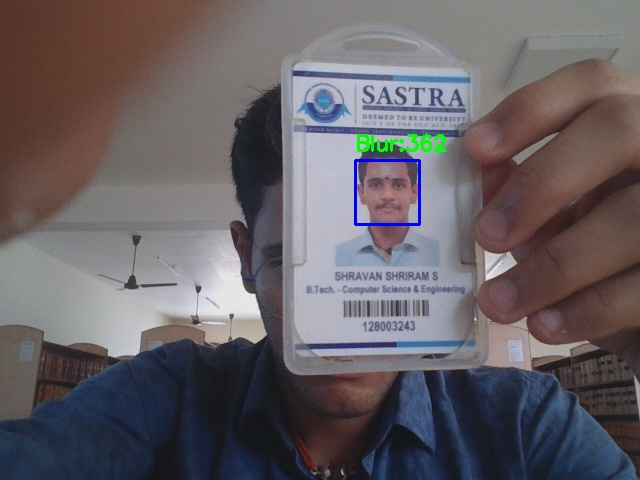fake: (355, 160, 419, 224)
